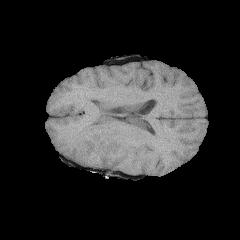glioma: (67, 105, 127, 168)
